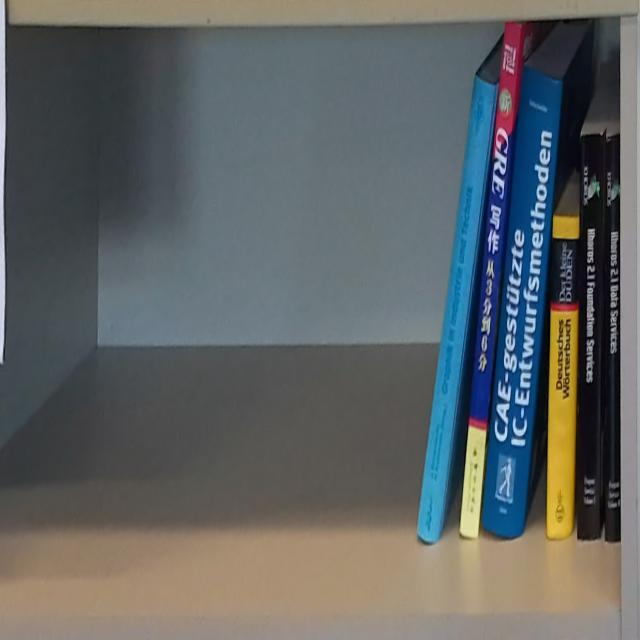Book Spine: (481, 65, 564, 543), (416, 74, 497, 543), (460, 20, 523, 540), (546, 214, 579, 540), (577, 135, 603, 542), (605, 136, 620, 543)
